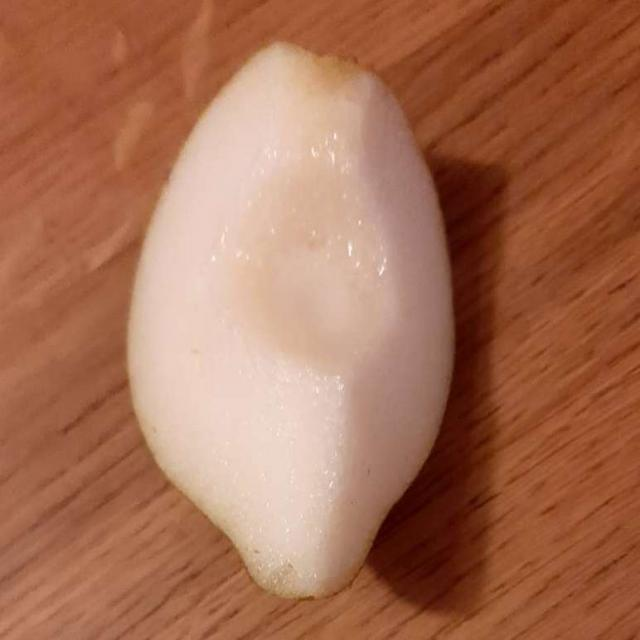pear: (137, 27, 452, 603)
